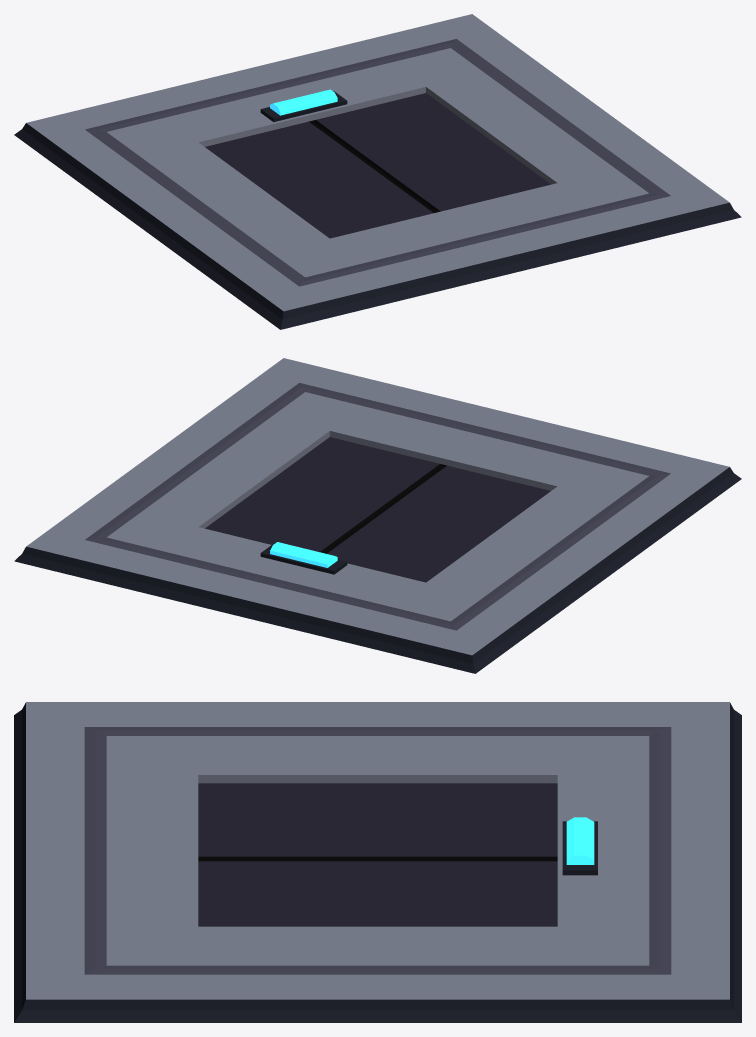
The model's file is trapeB.fbx.
3 renders of one model, top to bottom at view 1: azimuth 30°, elevation 25°; view 2: azimuth 150°, elevation 25°; view 3: azimuth 270°, elevation 25°, orthographic. The views are drawn at different scales.
Parts seen in each view (by area): view 1: trapeB; view 2: trapeB; view 3: trapeB.
Part boxes in pixels (x1,y1,x2,y2): trapeB: (14,14,741,329); trapeB: (14,358,741,673); trapeB: (14,702,741,1022).
Size of the model in its own units: 154 by 7.62 by 154.
